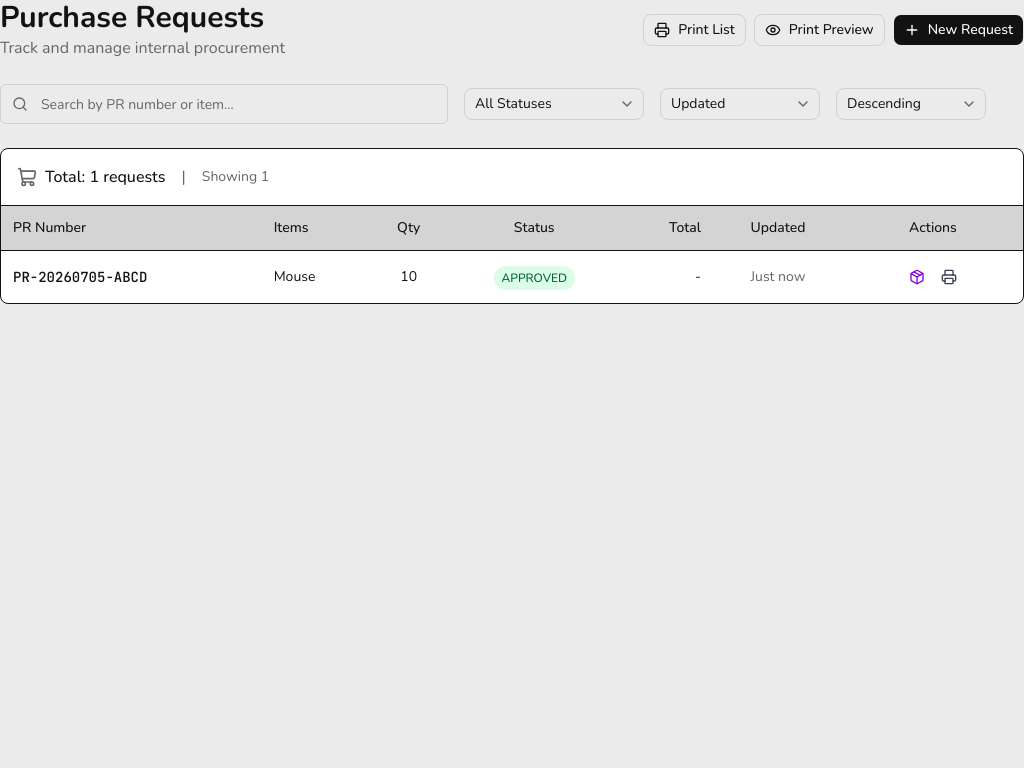
Test case: PurchaseRequestsClient › print preview dialog › opens the dialog with the approved requests print layout
Click the button "Print Preview" at (819, 30), box 754,14 -> 885,46
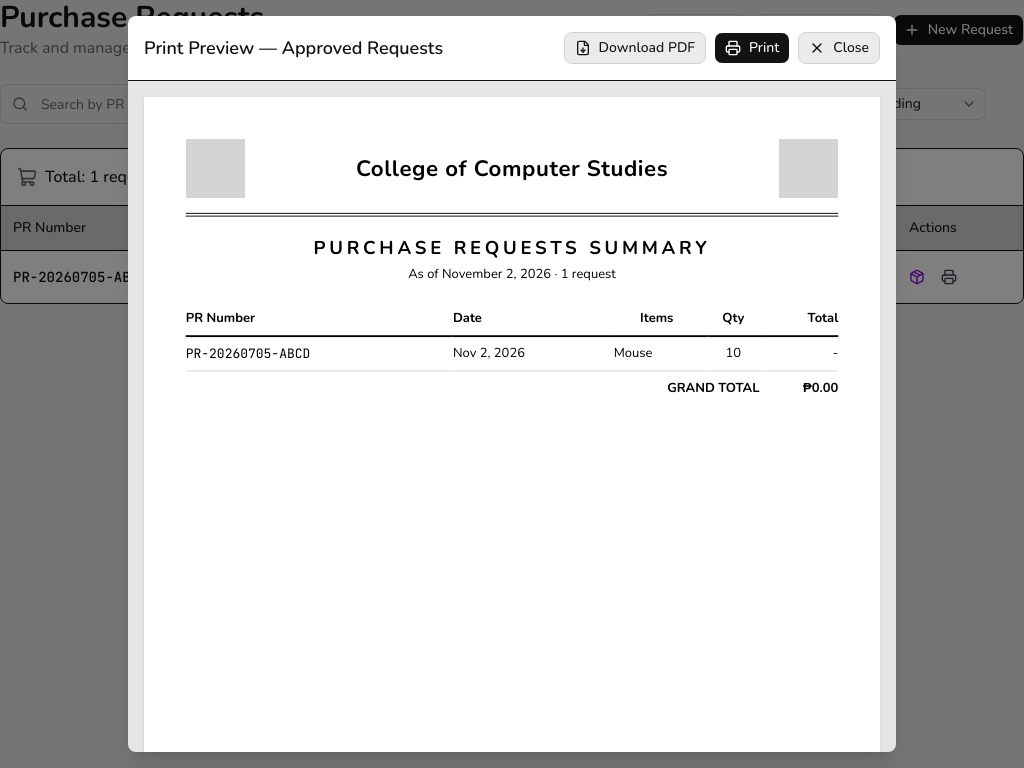
Expected: the heading "PURCHASE REQUESTS SUMMARY" is shown, 314,235 -> 710,260
Expected: the text "PR-20260705-ABCD" is shown, 186,336 -> 453,371
Expected: the heading "College of Computer Studies" is shown, 356,154 -> 668,183
